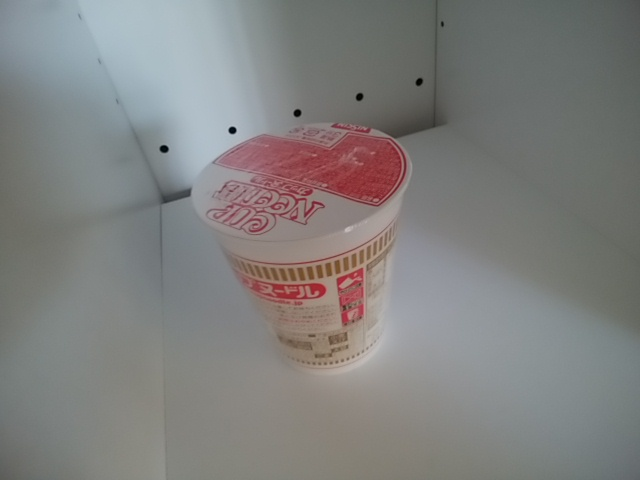cup-ramen: (190, 119, 419, 378)
